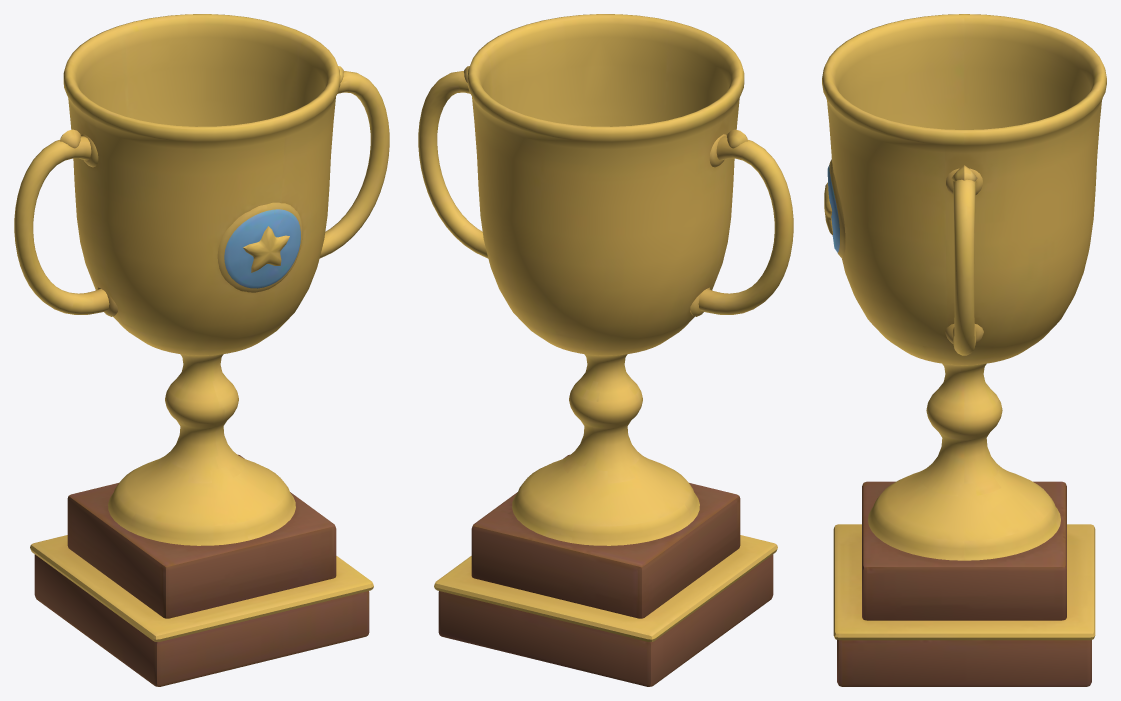
The model's file is trophy.glb.
3 views of the same model, side by side, from view 1: azimuth 30°, elevation 25°; view 2: azimuth 150°, elevation 25°; view 3: azimuth 270°, elevation 25° (orthographic). The views are drawn at different scales.
Parts seen in each view (by area): view 1: trophy_body; view 2: trophy_body; view 3: trophy_body.
Part boxes in pixels (bbox=[...]): trophy_body: bbox=[14, 14, 389, 686]; trophy_body: bbox=[418, 14, 793, 686]; trophy_body: bbox=[822, 14, 1106, 686].
Bounding box in the file's own units: 0.2498 × 0.351 × 0.161.
1 material, 1 textured.
